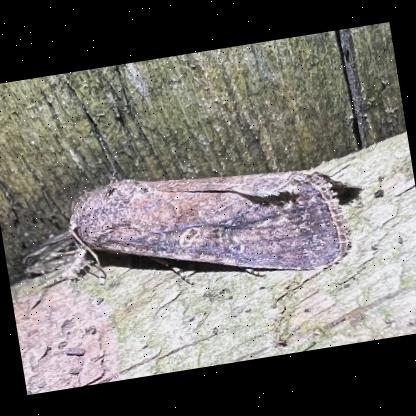Fall Armyworm Moth: (57, 139, 378, 310)
